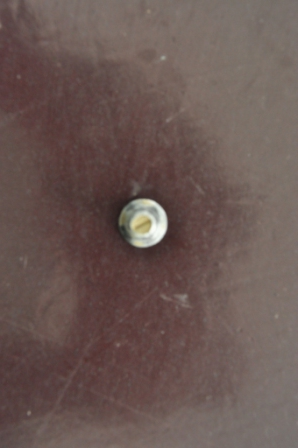NUT(AC): (116, 197, 170, 249)
